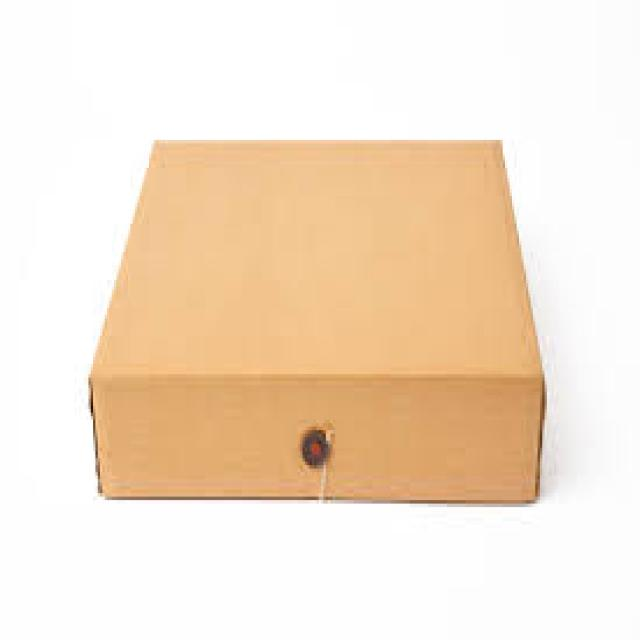cardboard: (86, 137, 545, 504)
